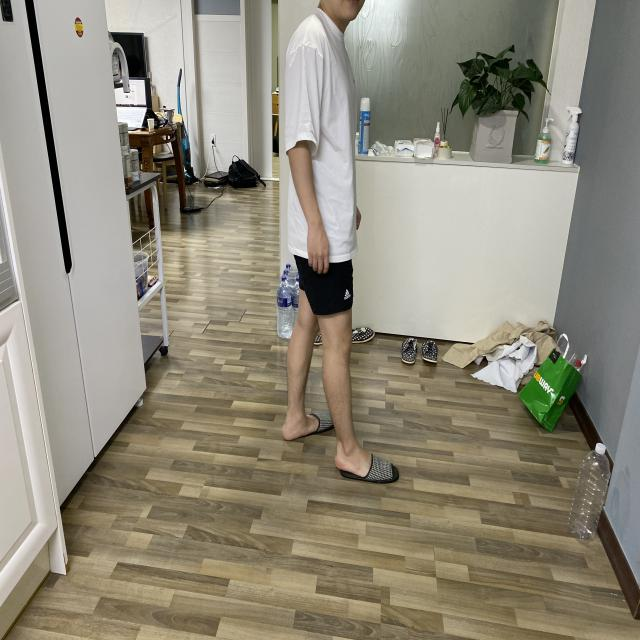no-boots: (329, 442, 410, 496), (272, 402, 339, 447)
